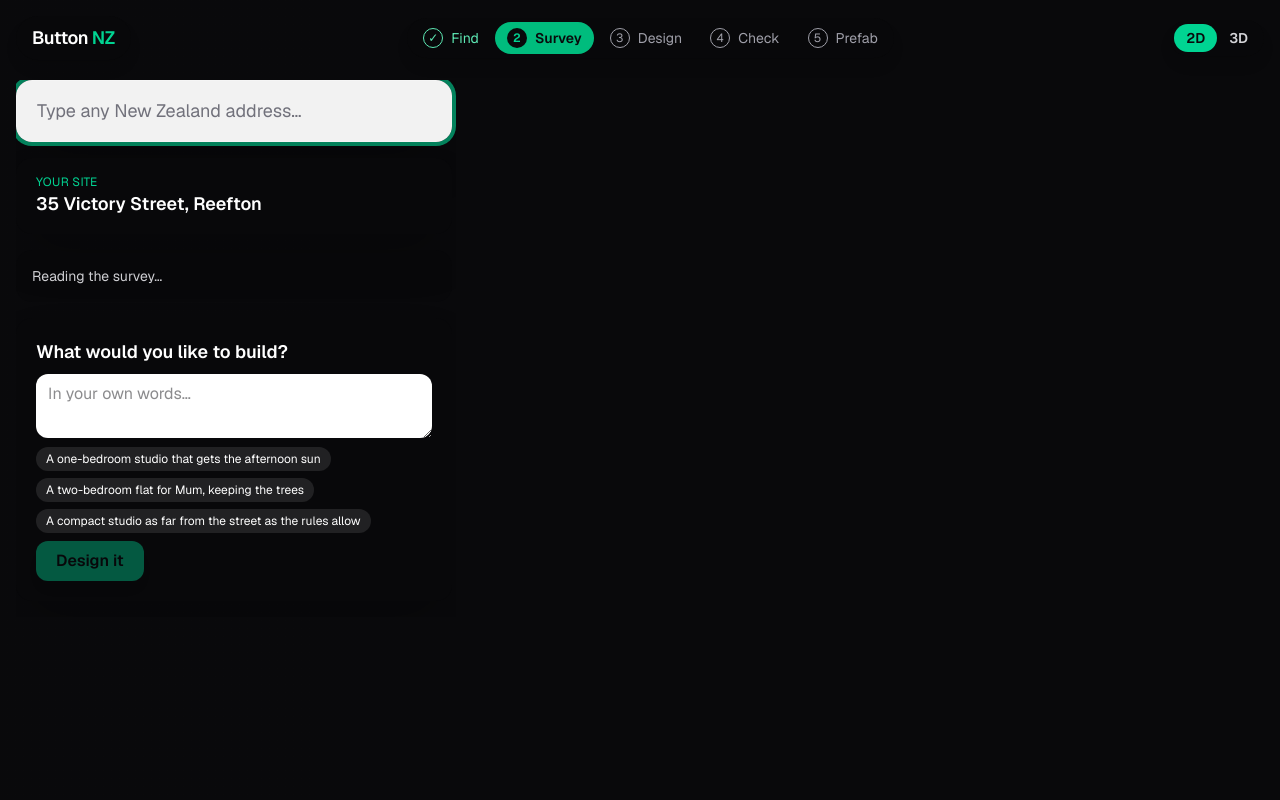
Test: a ready site › holds the shown site's controls while another address is being opened
Click the button "A one-bedroom studio that gets the afternoon sun" at (183, 459), box 36,447 -> 331,471
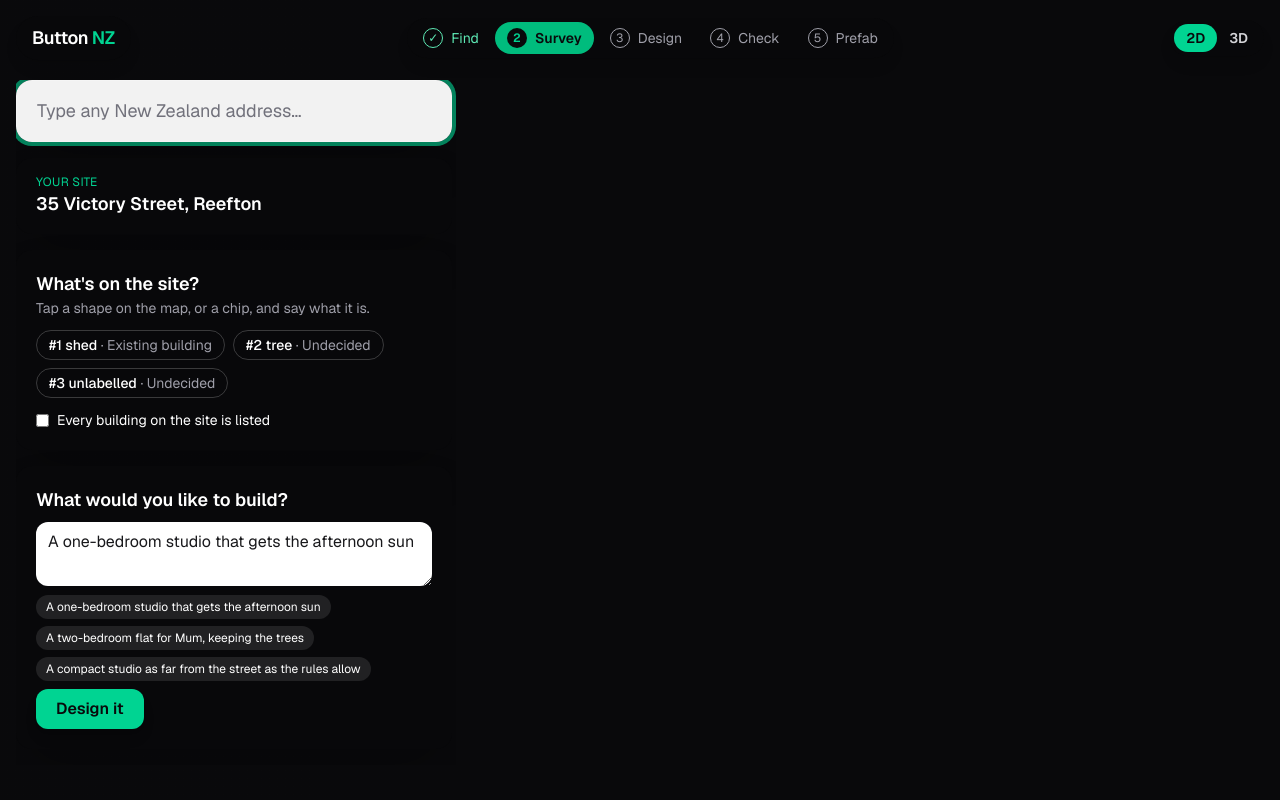
Type "35 Victory" into the dropdown at (234, 111), box 16,80 -> 452,142
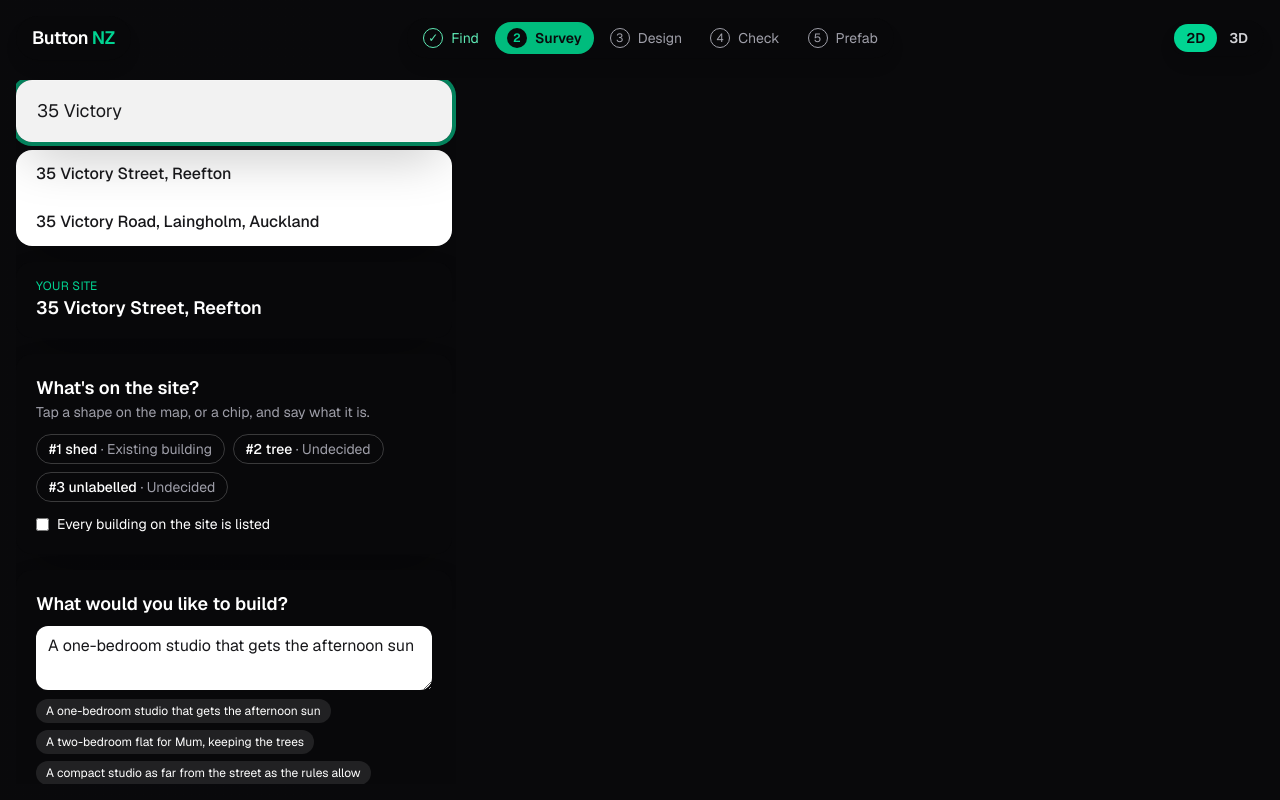
Click the option "35 Victory Road, Laingholm, Auckland" at (178, 222), box 36,211 -> 320,232
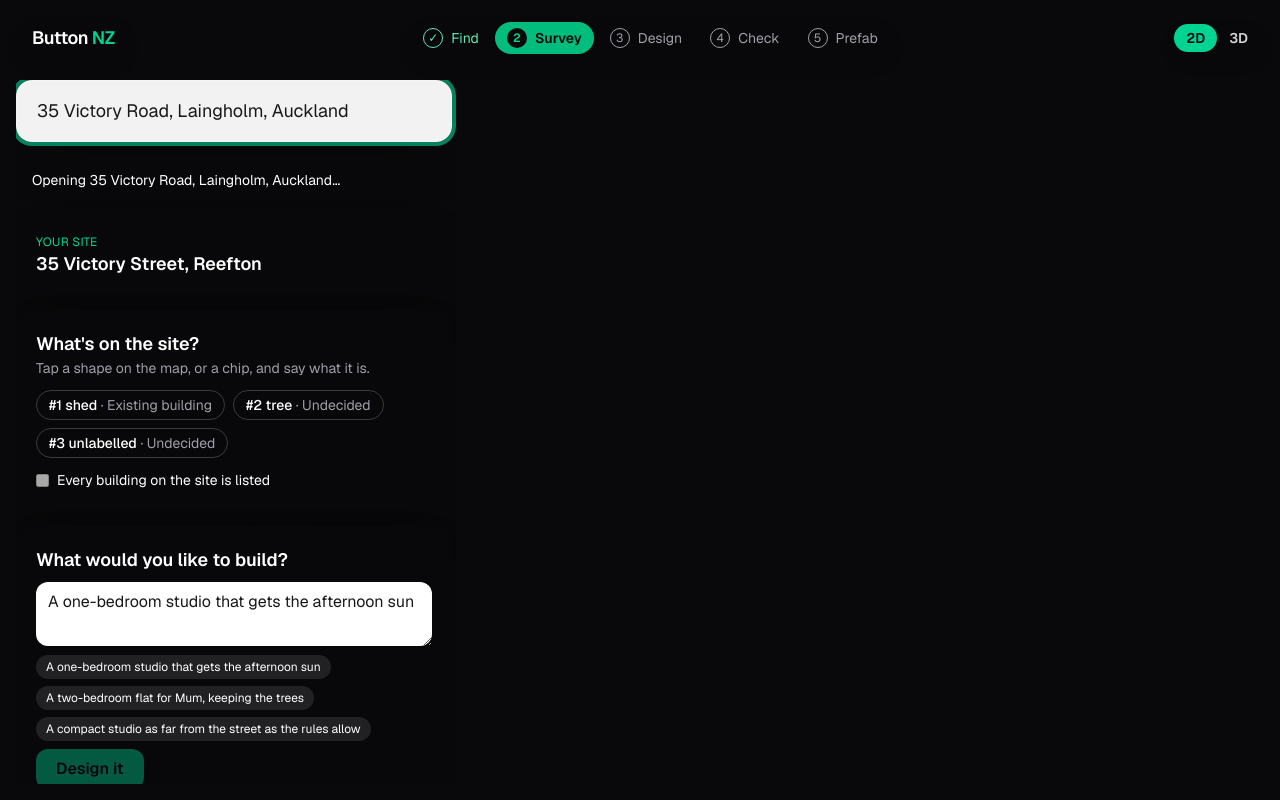
Result: the text "Opening 35 Victory Road, Laingholm, Auckland…" is shown at 16,158 -> 452,202
